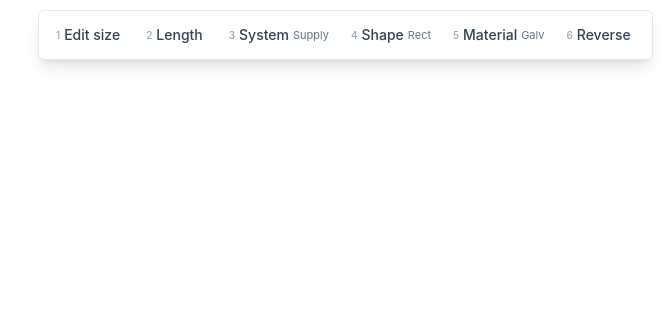
Test: CAS hybrid behaviors › renders numeric edits in a popover
Click the button "1 Edit size" at (90, 35), box 47,19 -> 133,51
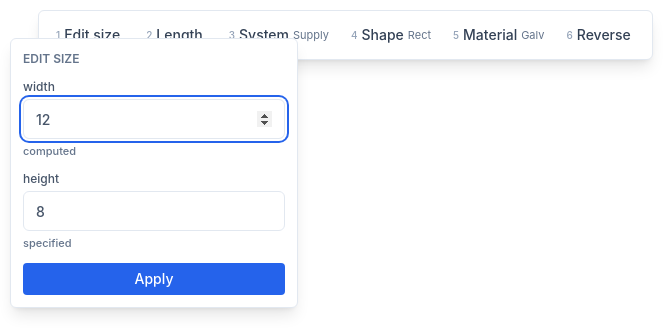
expect the element with test id "popover" is shown: met, box 10,38 -> 298,308
expect the number field labelled "width computed" is shown: met, box 23,99 -> 285,139
